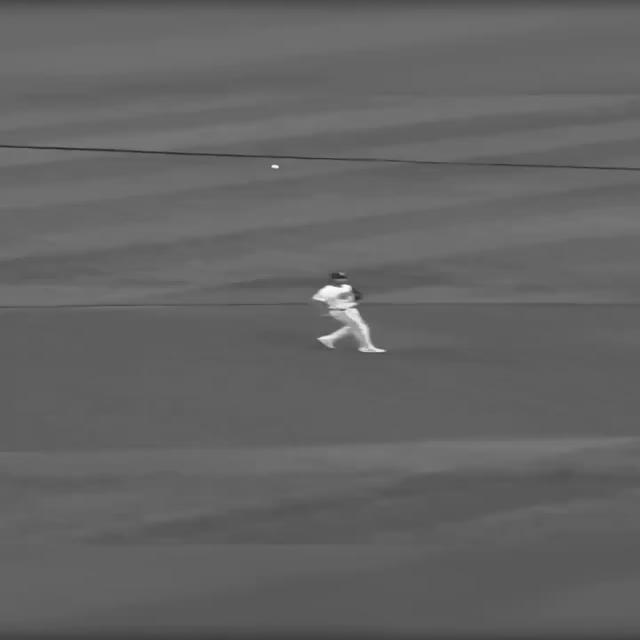baseball: (269, 164, 279, 169)
shoe: (316, 336, 336, 348), (358, 347, 386, 352)
